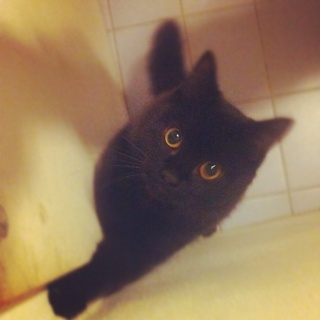Cat: (44, 17, 292, 319)
